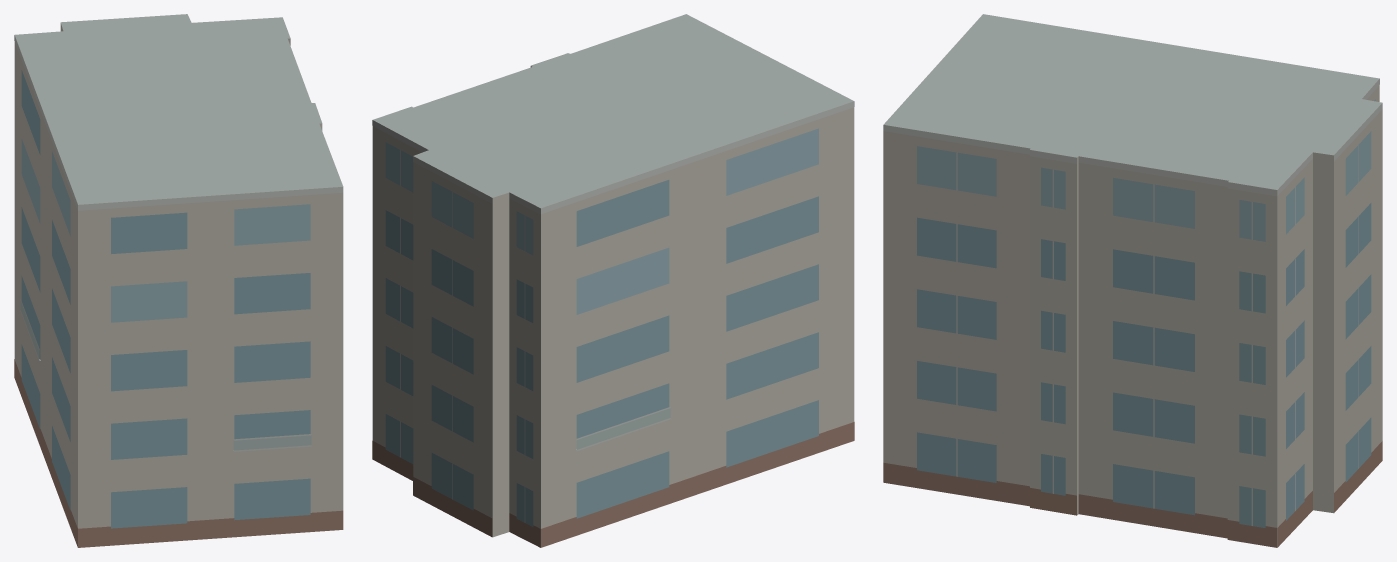
File: survey-upis-32962020.glb
The picture shows the model from 3 angles, left to right: view 1: azimuth 30°, elevation 25°; view 2: azimuth 150°, elevation 25°; view 3: azimuth 270°, elevation 25°; orthographic projection. The views are drawn at different scales.
Parts seen in each view (by area): view 1: survey-upis-32962020.tmp; view 2: survey-upis-32962020.tmp; view 3: survey-upis-32962020.tmp.
Part boxes in pixels (left/top/right/bottom): survey-upis-32962020.tmp: left=14, top=14, right=343, bottom=547; survey-upis-32962020.tmp: left=372, top=14, right=854, bottom=547; survey-upis-32962020.tmp: left=883, top=14, right=1382, bottom=547.
Bounding box in the file's own units: 14.78 × 14 × 17.71.
